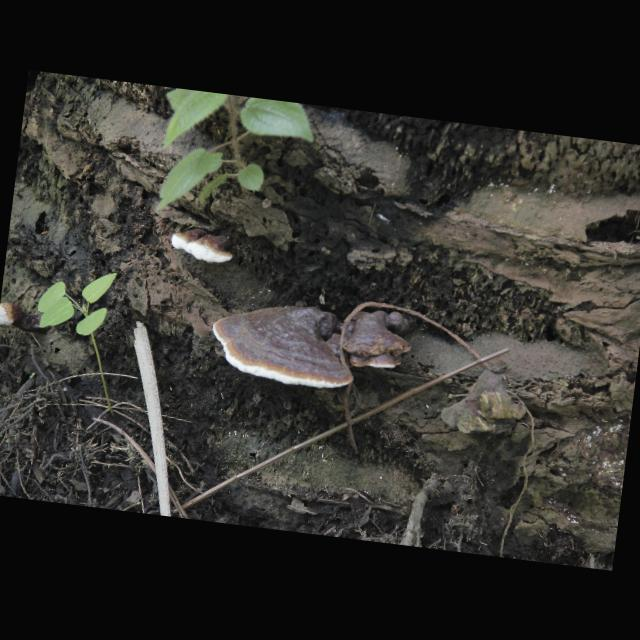ganoderma: (208, 296, 363, 395), (335, 305, 417, 375), (169, 225, 237, 267)
primordium: (1, 302, 24, 331)
